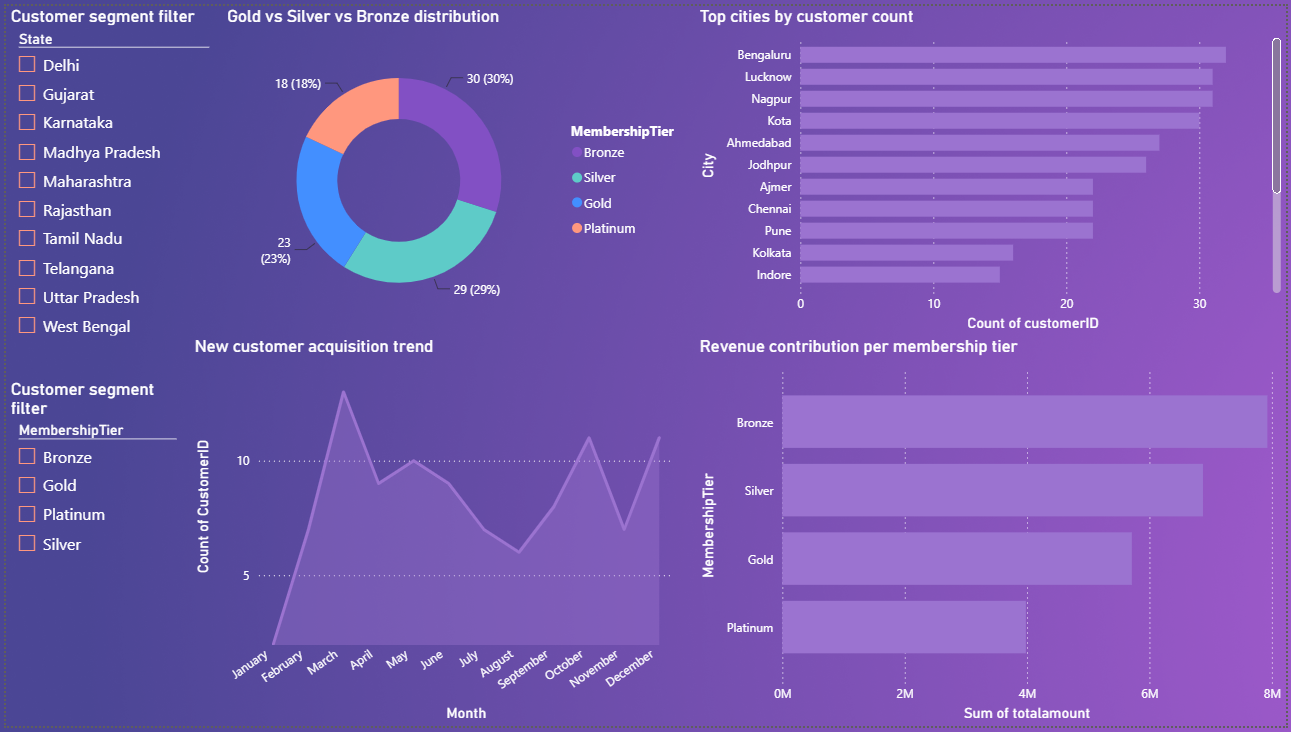

The page's visual inventory and layout, read from the dashboard file:
{"tool":"powerbi","page":{"name":"Page 4","canvas":[1280,720],"ordinal":3},"visuals":[{"type":"donutChart","title":"Gold vs Silver vs Bronze distribution","fields":{"Category":["project customer.MembershipTier"],"Y":["CountNonNull(project customer.CustomerID)"]},"box":[216.2,0,472.5,330],"z":0},{"type":"clusteredBarChart","title":"Top cities by customer count","fields":{"Y":["CountNonNull(project orders.customerID)"],"Category":["project customer.City"]},"box":[688.8,0,591.2,330],"z":1000},{"type":"clusteredBarChart","title":"Revenue contribution per membership tier","fields":{"Category":["project customer.MembershipTier"],"Y":["Sum(project orders.totalamount)"]},"box":[688.8,330,591.2,390],"z":2000},{"type":"lineChart","title":"New customer acquisition trend","fields":{"Category":["project customer.RegisteredDate.Variation.Date Hierarchy.Month"],"Y":["CountNonNull(project customer.CustomerID)"]},"box":[183.8,330,488.8,390],"z":3000},{"type":"slicer","title":"Customer segment filter","fields":{"Values":["project customer.State"]},"box":[0,0,216.2,360],"z":4000},{"type":"slicer","title":"Customer segment filter","fields":{"Values":["project customer.MembershipTier"]},"box":[0,372.5,183.8,188.8],"z":5000}]}

Visuals, with their boxes in screenshot pixels (x1, y1, x2, y2), scaled from the page's 1280x720 canvas onto the 1291x732 screenshot:
"Gold vs Silver vs Bronze distribution" donutChart: {"x1": 218, "y1": 0, "x2": 695, "y2": 336}
"Top cities by customer count" clusteredBarChart: {"x1": 695, "y1": 0, "x2": 1290, "y2": 336}
"Revenue contribution per membership tier" clusteredBarChart: {"x1": 695, "y1": 336, "x2": 1290, "y2": 731}
"New customer acquisition trend" lineChart: {"x1": 185, "y1": 336, "x2": 678, "y2": 731}
"Customer segment filter" slicer: {"x1": 0, "y1": 0, "x2": 218, "y2": 366}
"Customer segment filter" slicer: {"x1": 0, "y1": 379, "x2": 185, "y2": 571}
